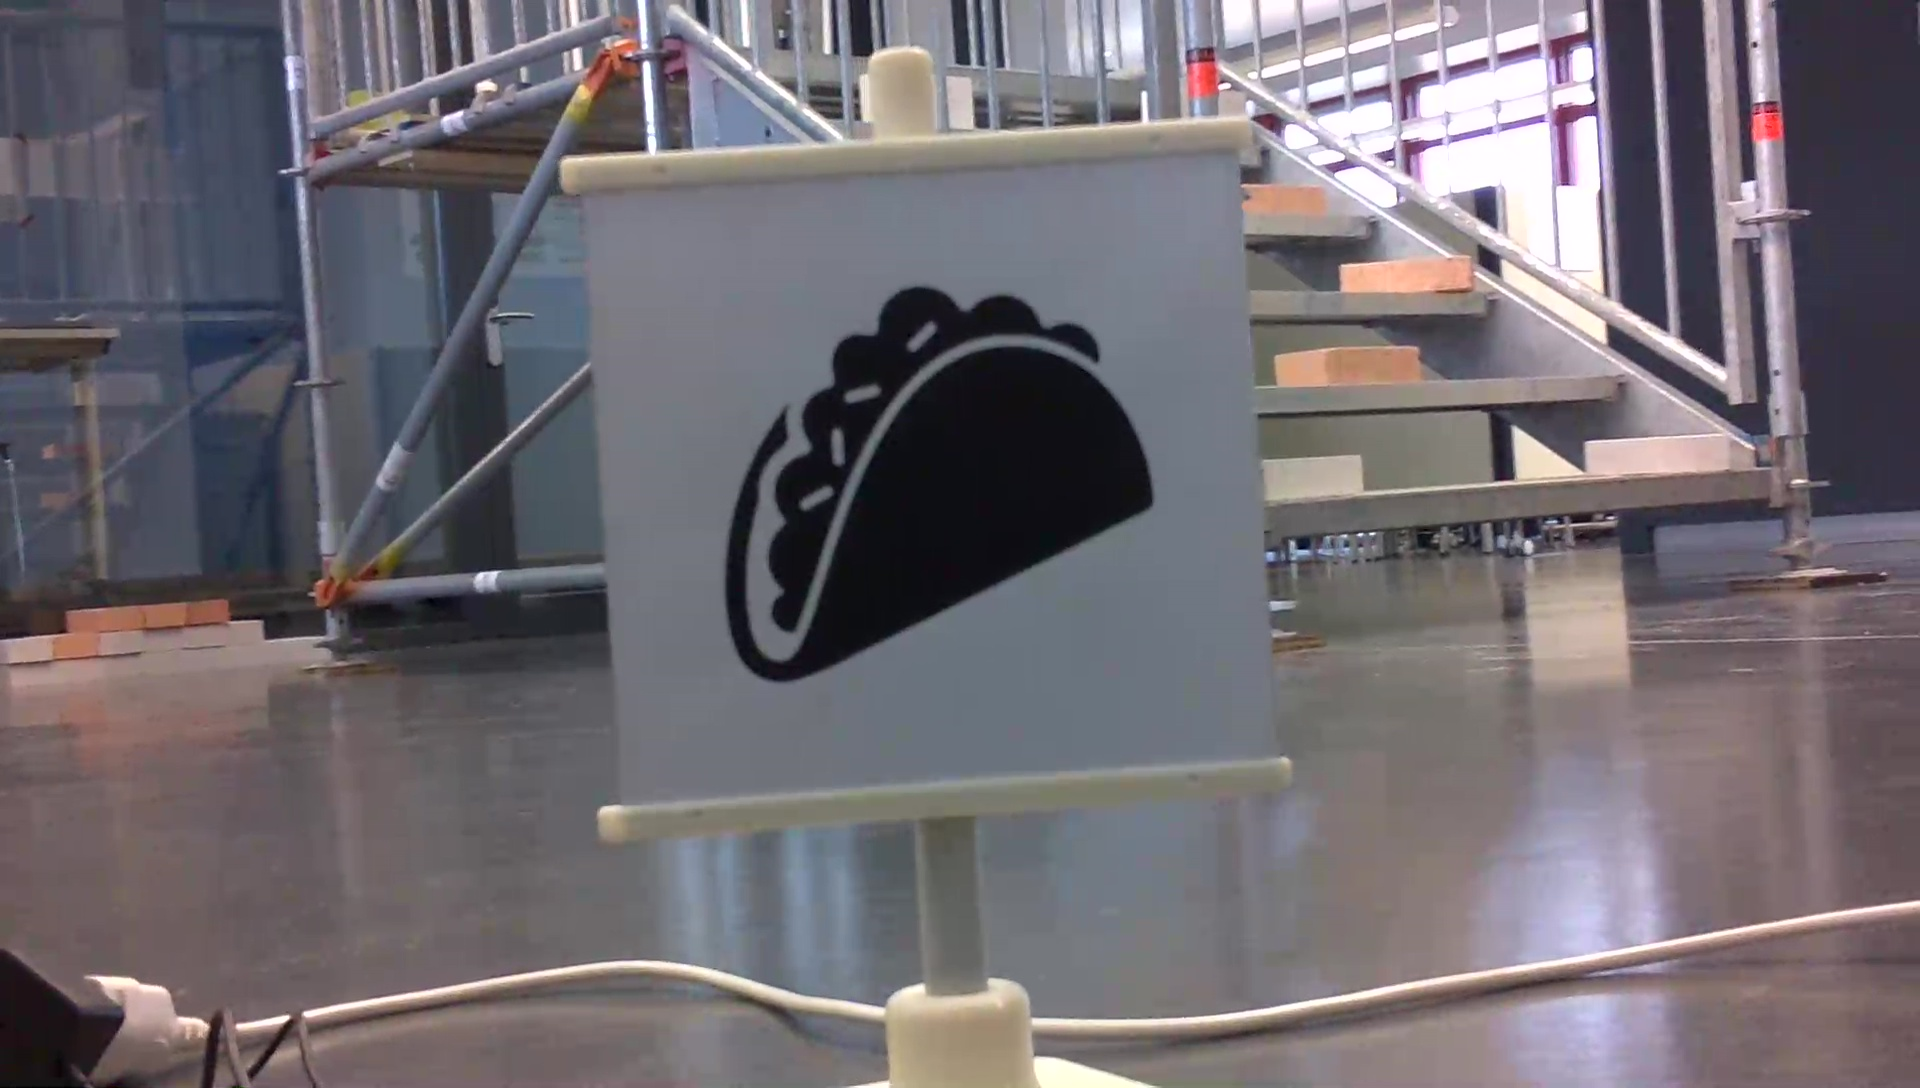brick: (1276, 349, 1418, 385), (1585, 437, 1730, 471), (1340, 257, 1472, 290), (1265, 455, 1364, 493), (1241, 181, 1328, 214)
edge: (1269, 466, 1775, 538), (1253, 373, 1627, 408), (1250, 287, 1498, 315)
taco: (709, 270, 1168, 692)
